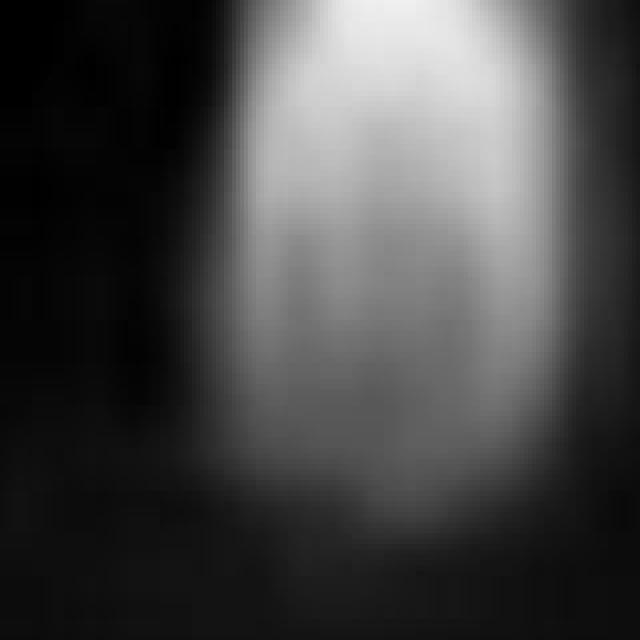person: (185, 1, 569, 529)
